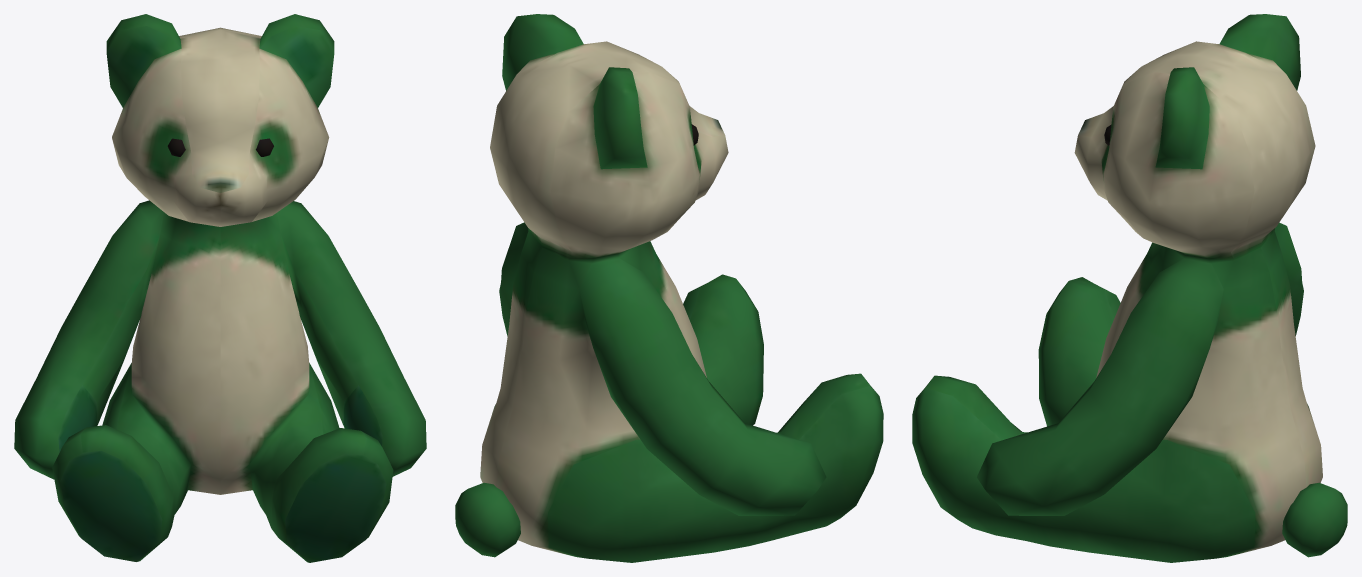
3 views of the same model, side by side, from view 1: azimuth 30°, elevation 25°; view 2: azimuth 150°, elevation 25°; view 3: azimuth 270°, elevation 25° (orthographic). The views are drawn at different scales.
Size of the model in its own units: 7.21 by 9.31 by 7.48.
Materials: 1 (1 with a texture image).
